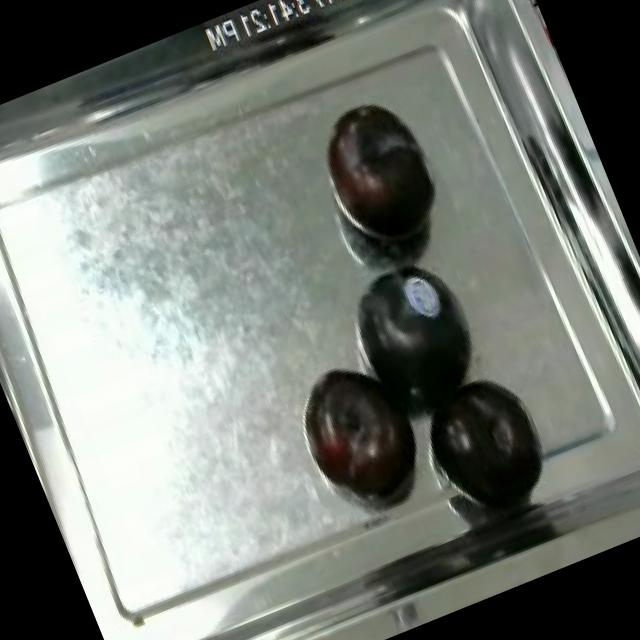Fruit: (280, 344, 440, 520), (331, 248, 488, 424), (305, 84, 455, 260), (410, 359, 561, 530)
